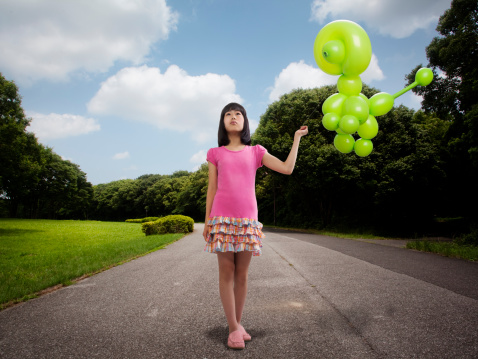em pe: (188, 89, 288, 359)
